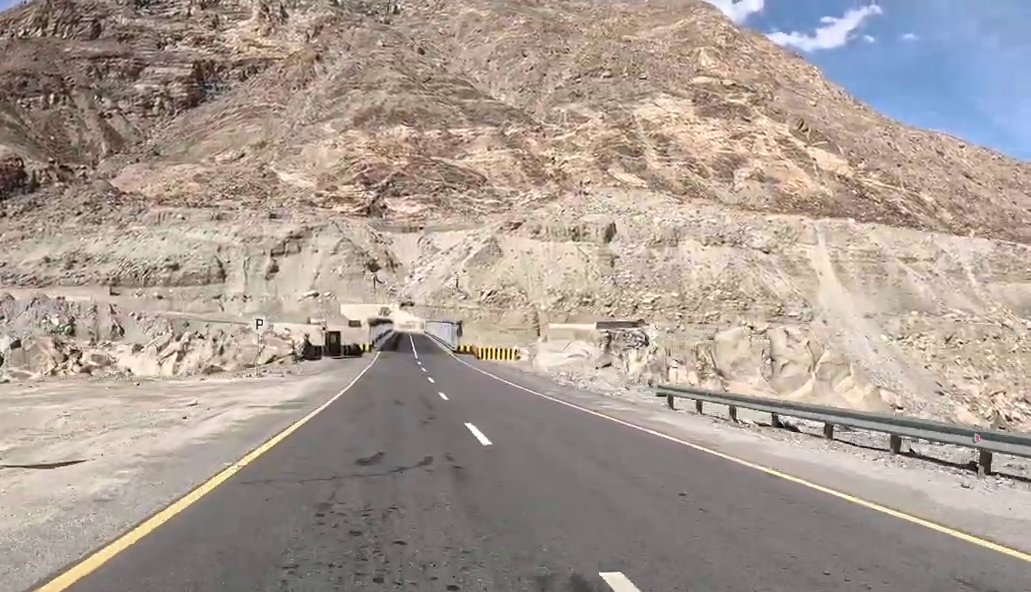left: (354, 365, 733, 592)
